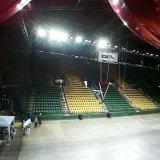Orange_Triangle_Gshape: (98, 81, 110, 99)
